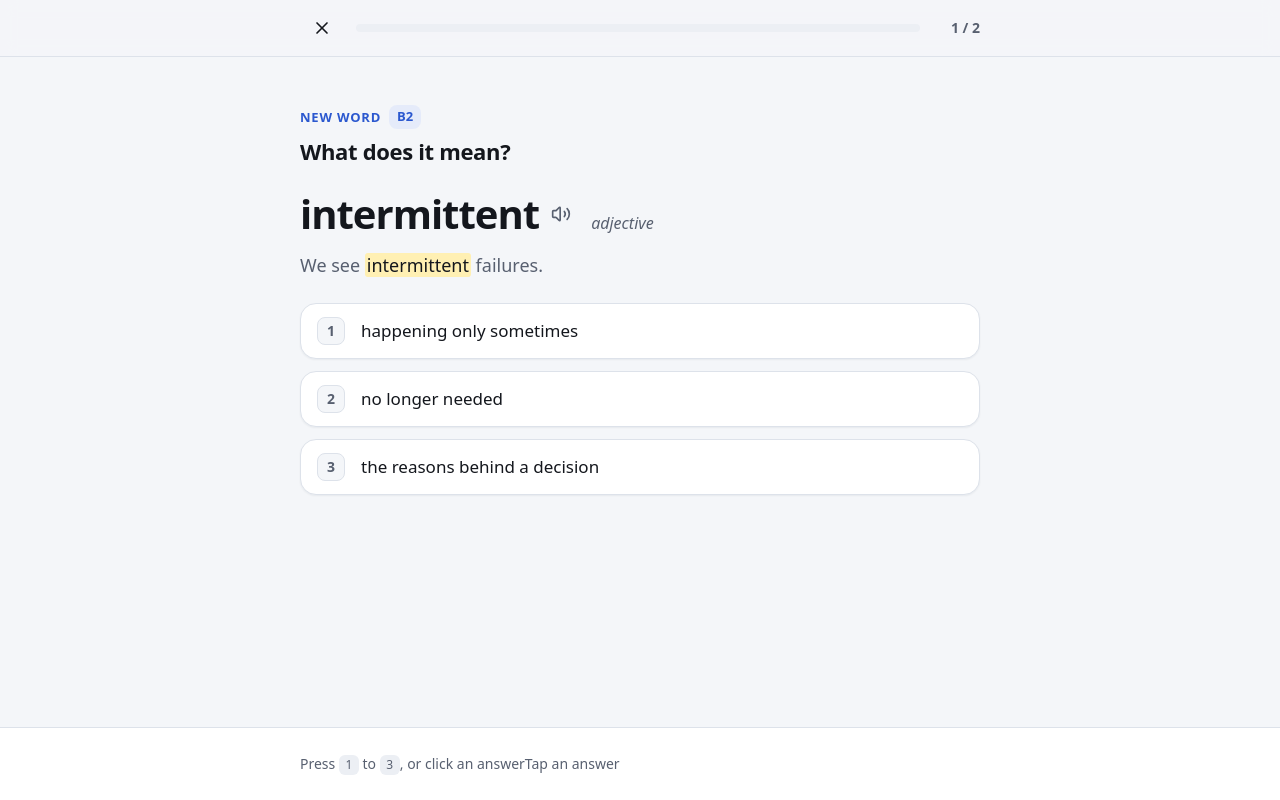
Test case: RoundPlayer › plays a round: a choice by key, a typed word, the missed word once more, then the score
Expected: the heading "What does it mean?" is shown, [300, 136, 510, 166]
Type keys "2"
(page scrolled)
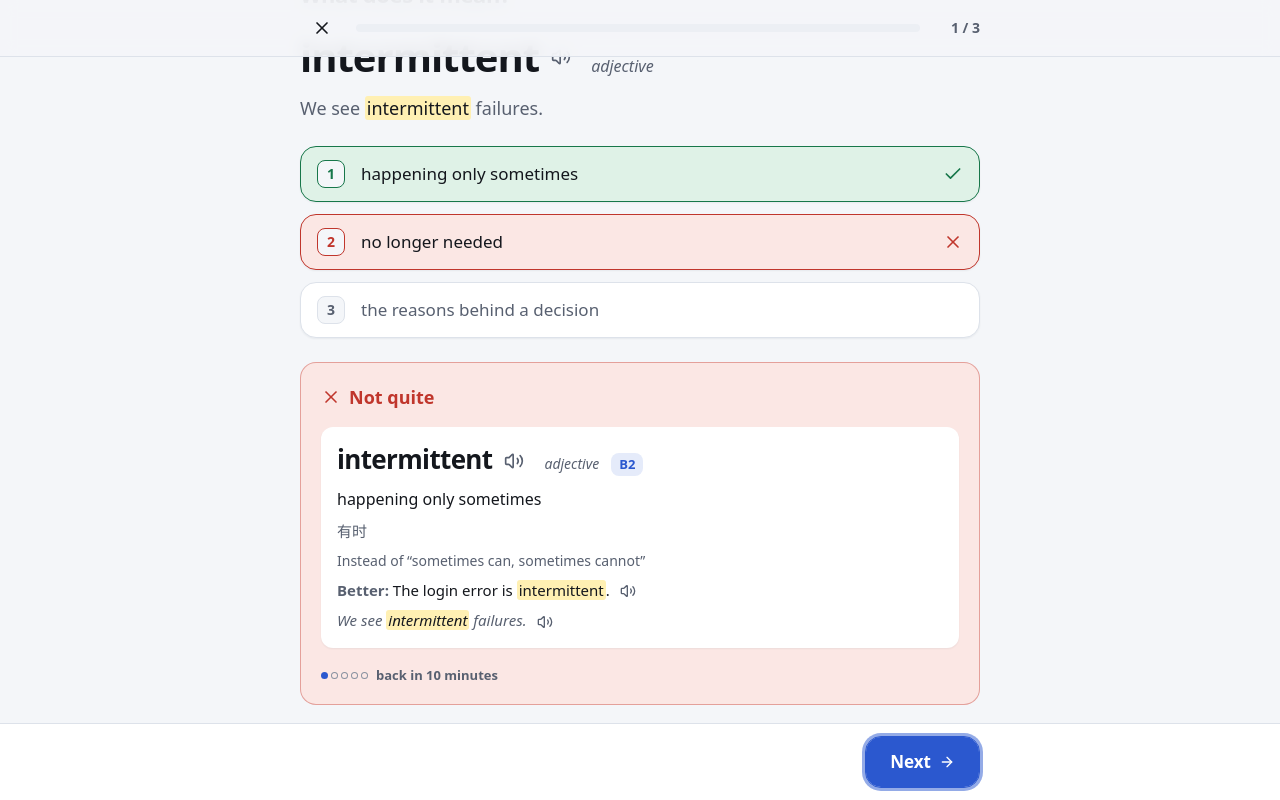
Now the text "Not quite" is shown, box [321, 384, 434, 408]
Now the text "有时" is shown, box [337, 520, 367, 540]
Now the text "back in 10 minutes" is shown, box [376, 666, 498, 684]
Press Enter
(page scrolled)
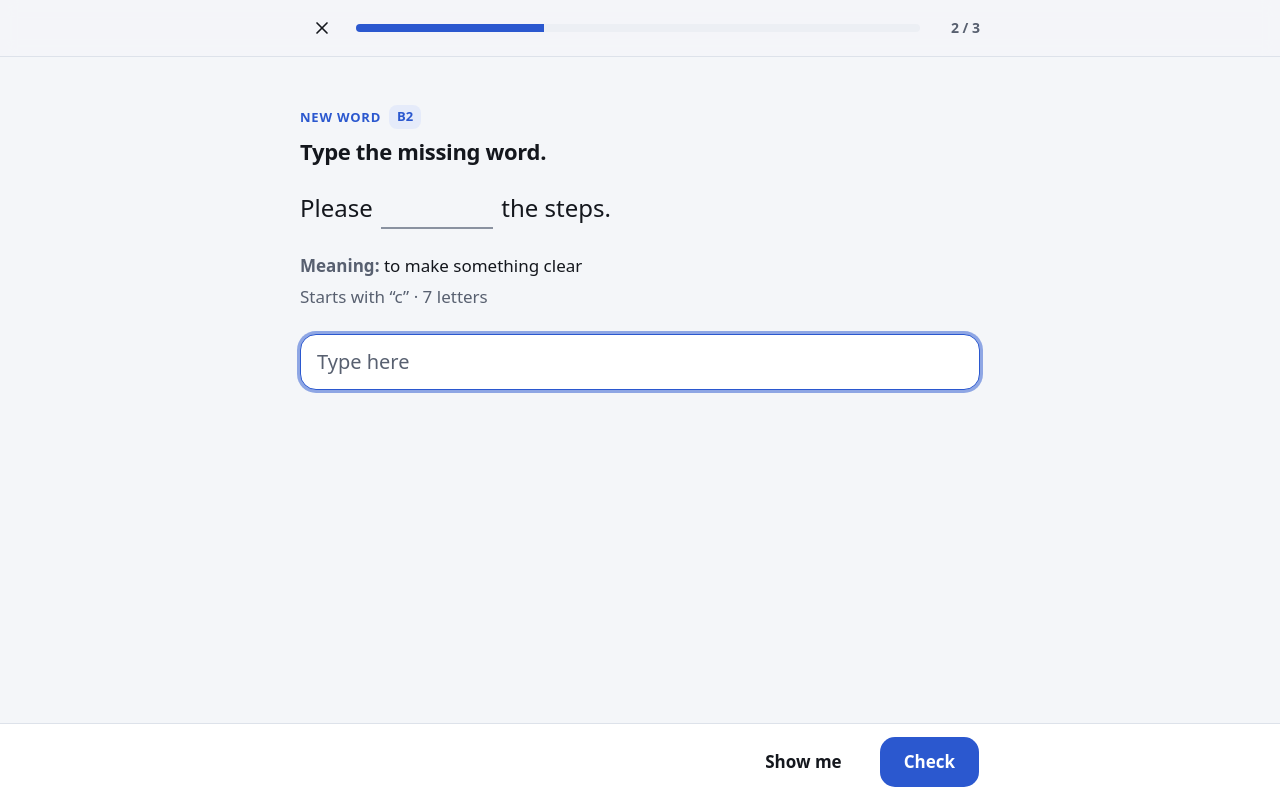
Now the heading "Type the missing word." is shown, box [300, 136, 546, 166]
Now the text "Starts with “c” · 7 letters" is shown, box [300, 285, 488, 308]
Type keys " Clarify{Enter}"
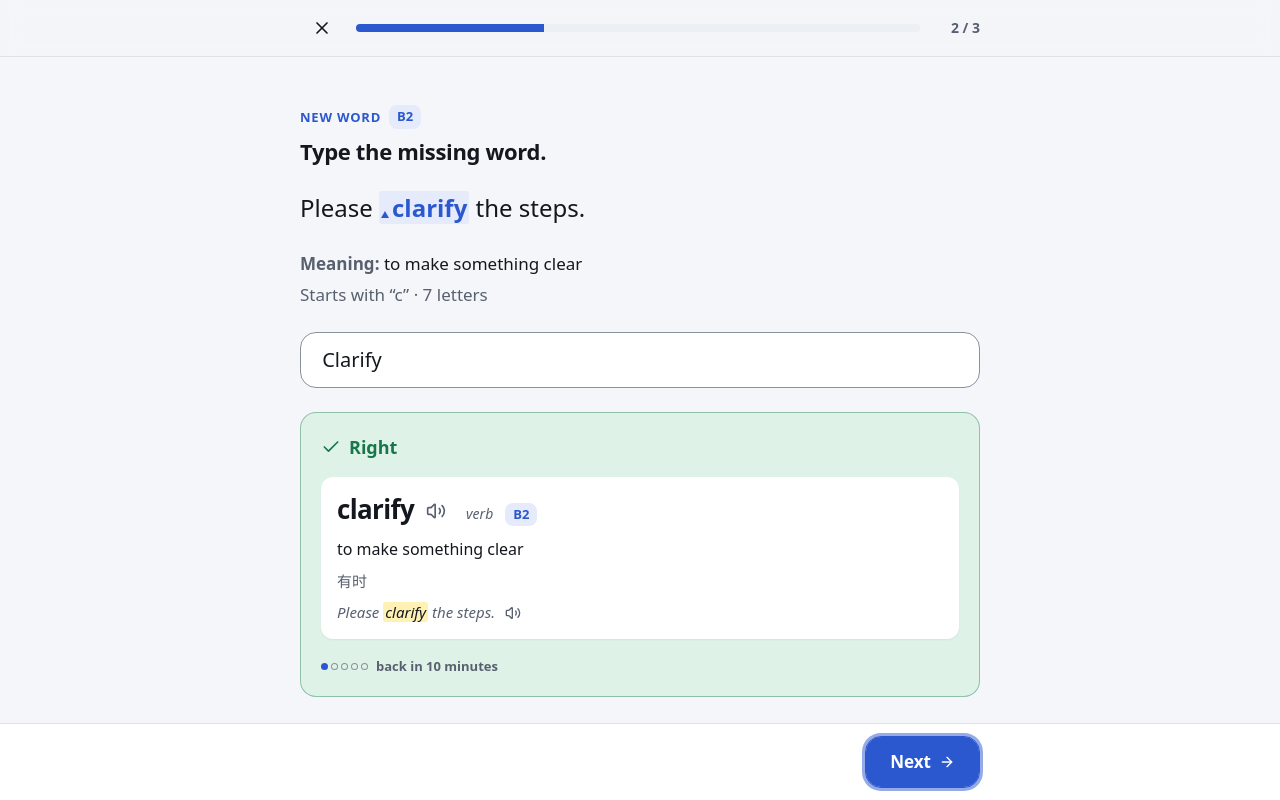
Now the text "Right" is shown, box [321, 434, 397, 458]
Click the button "Next". click: x=923, y=762
box: [865, 736, 980, 788]
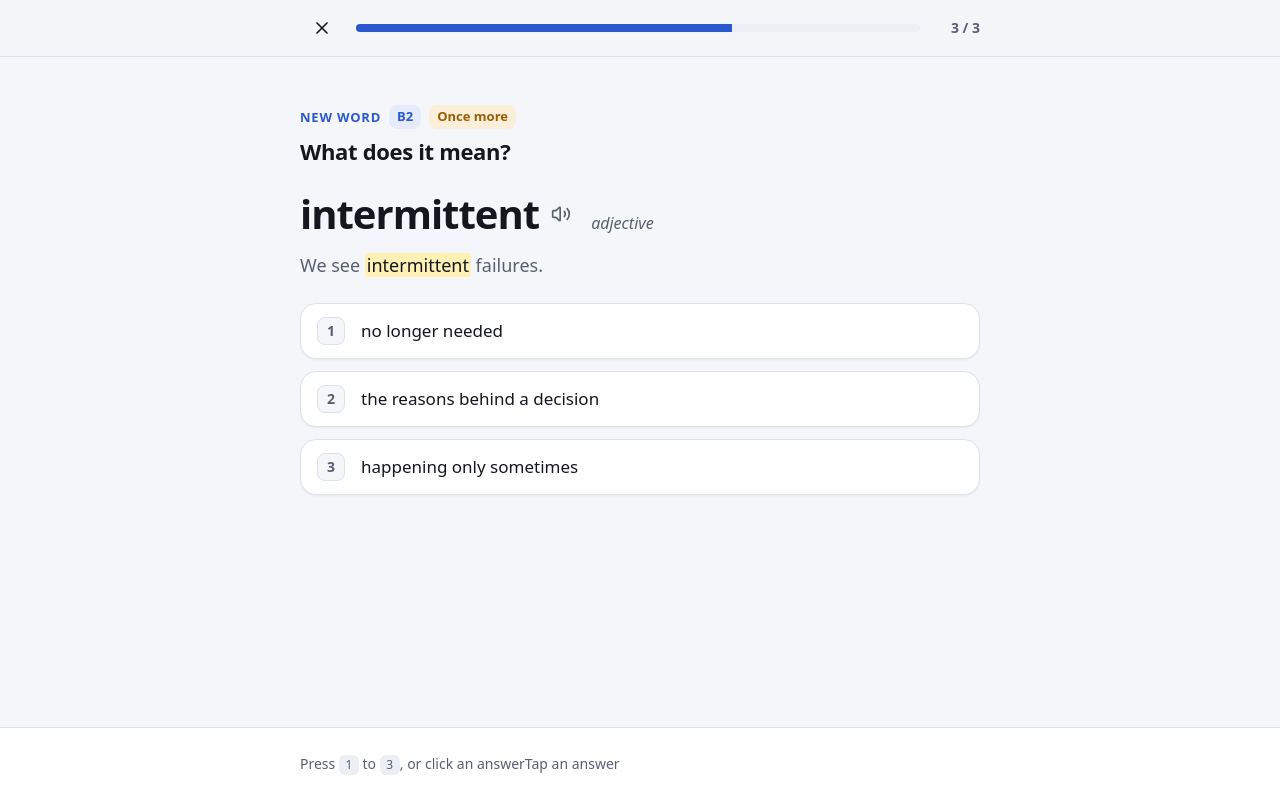
Now the text "Once more" is shown, box [429, 105, 516, 128]
Click the button "3 happening only sometimes". click: x=470, y=466
box: [300, 438, 980, 494]
(page scrolled)
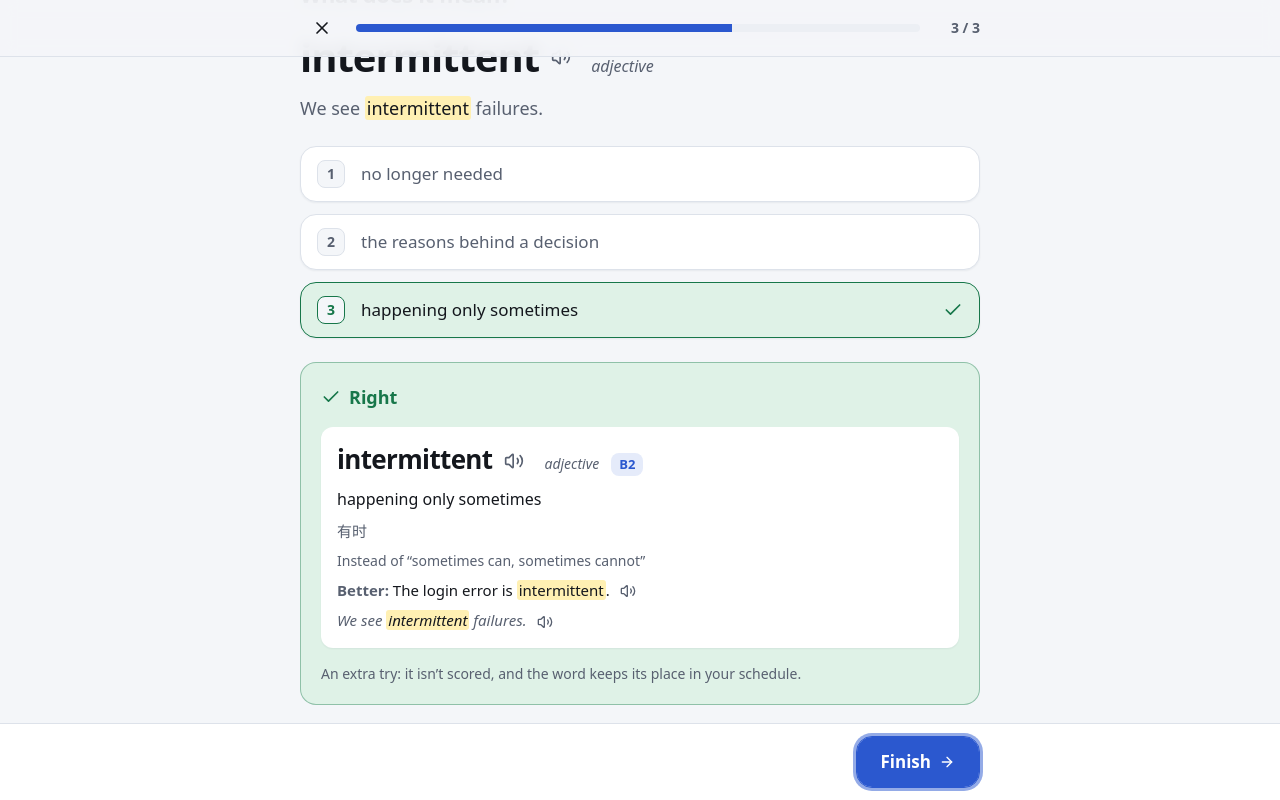
Now the text "isn’t scored" is shown, box [321, 664, 801, 682]
Click the button "Finish". click: x=918, y=762
box: [856, 736, 980, 788]
(page scrolled)
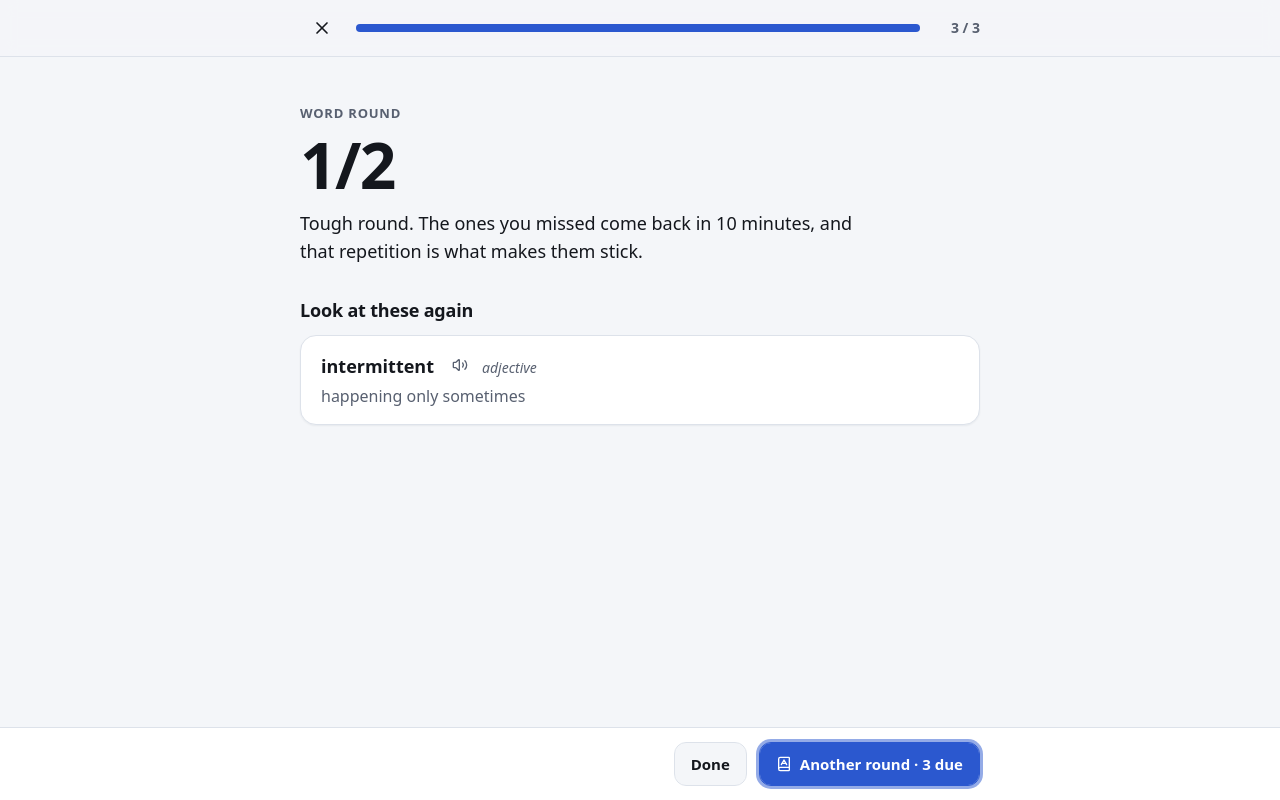
Now the heading named "1 of 2 right" is shown, box [300, 120, 721, 208]
Now the heading "Look at these again" is shown, box [300, 298, 473, 322]
Now the button "Another round · 3 due" is shown, box [759, 742, 980, 786]
